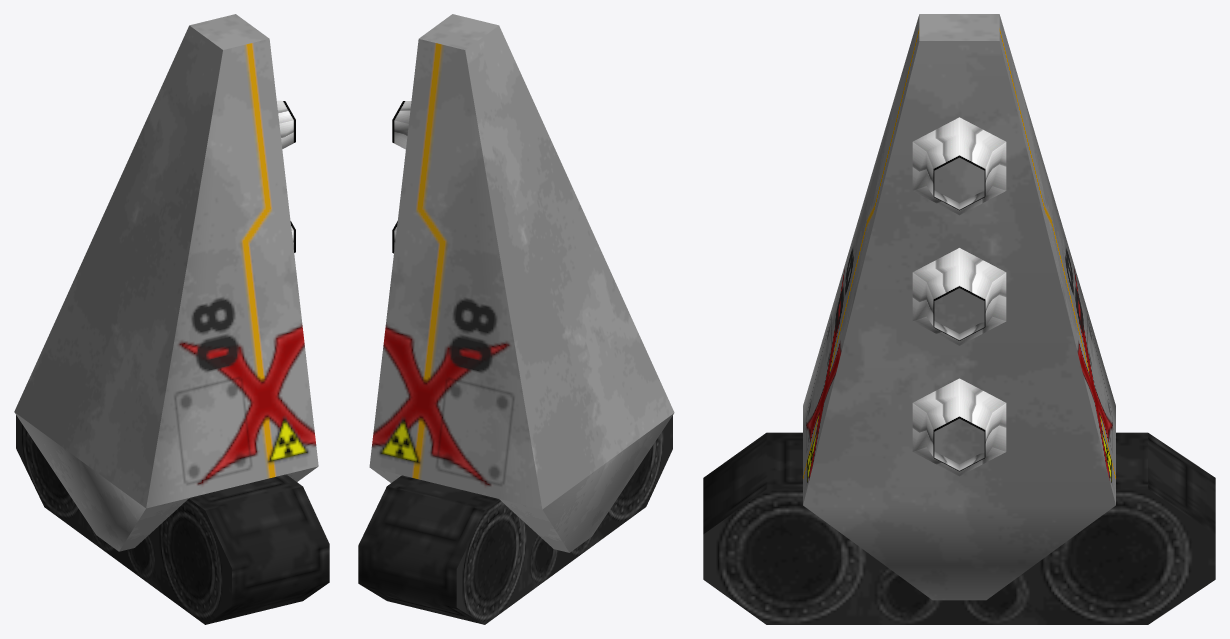
The model's file is laserhd.FBX.
3 views of the same model, side by side, from view 1: azimuth 30°, elevation 25°; view 2: azimuth 150°, elevation 25°; view 3: azimuth 270°, elevation 25° (orthographic). The views are drawn at different scales.
Parts seen in each view (by area): view 1: laserhd; view 2: laserhd; view 3: laserhd.
Part boxes in pixels (bbox=[...]): laserhd: bbox=[14, 14, 329, 624]; laserhd: bbox=[358, 14, 674, 624]; laserhd: bbox=[703, 14, 1215, 624].
Size of the model in its own units: 56.59 by 134 by 103.
